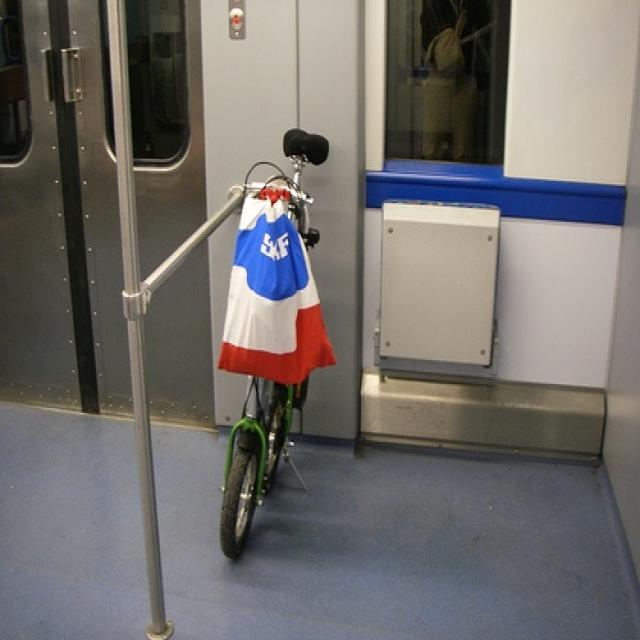bicycle: (216, 125, 333, 563)
